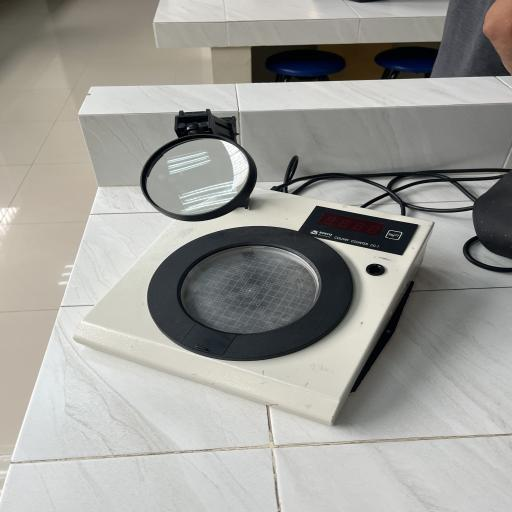Contador_Colonias_CC1: (67, 102, 438, 438)
